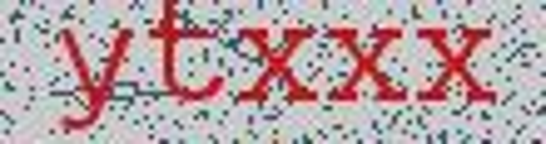t: (144, 1, 226, 107)
x: (322, 16, 412, 113), (414, 20, 506, 114), (232, 19, 320, 111)
y: (48, 18, 139, 139)
